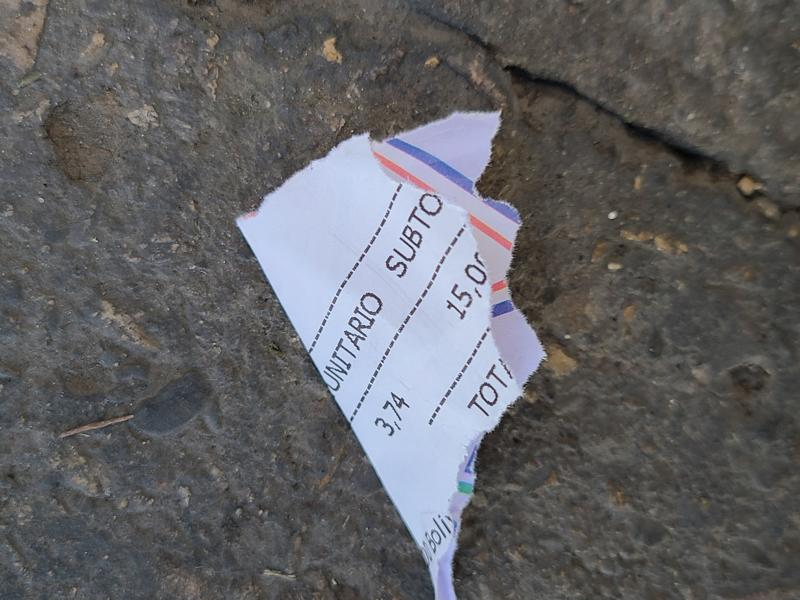papel: (235, 114, 545, 600)
